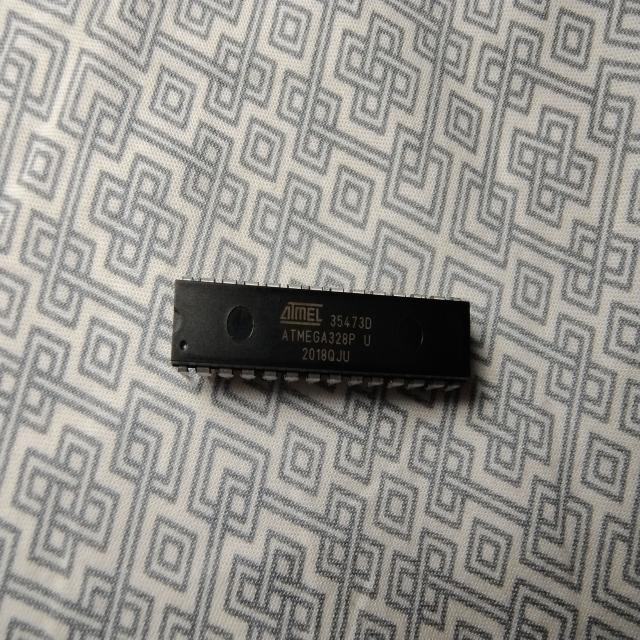atmega: (169, 275, 473, 395)
